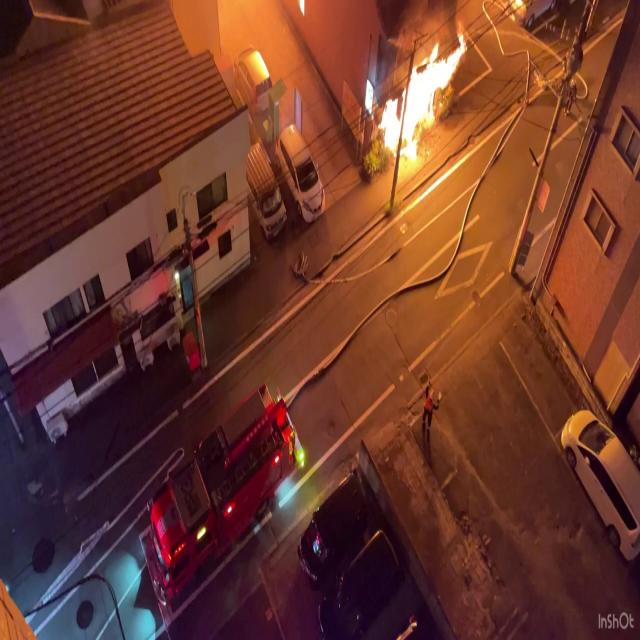Fire: (375, 25, 469, 168)
